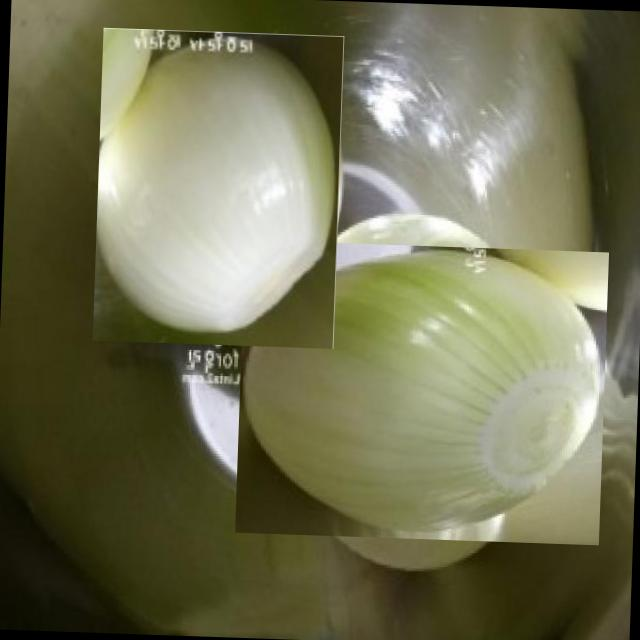Onion: (252, 221, 592, 562), (92, 28, 344, 348)
